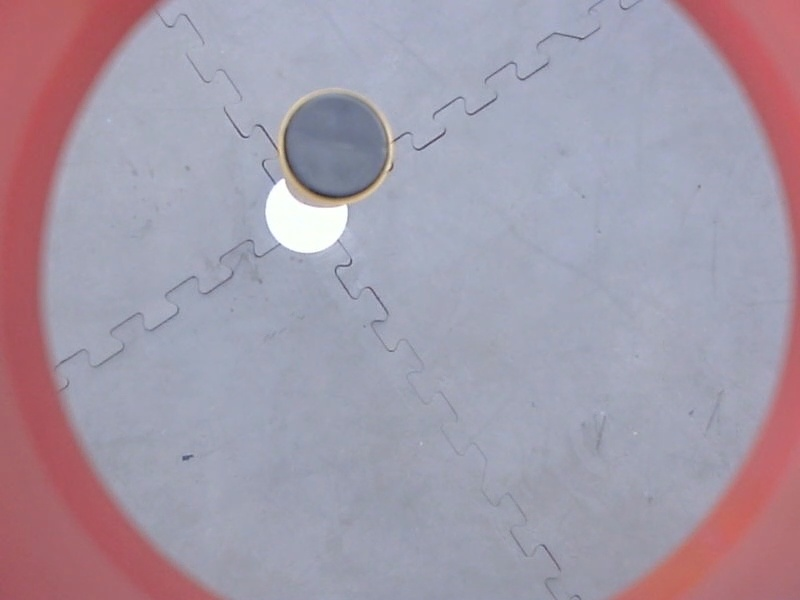tip: (271, 86, 400, 211)
